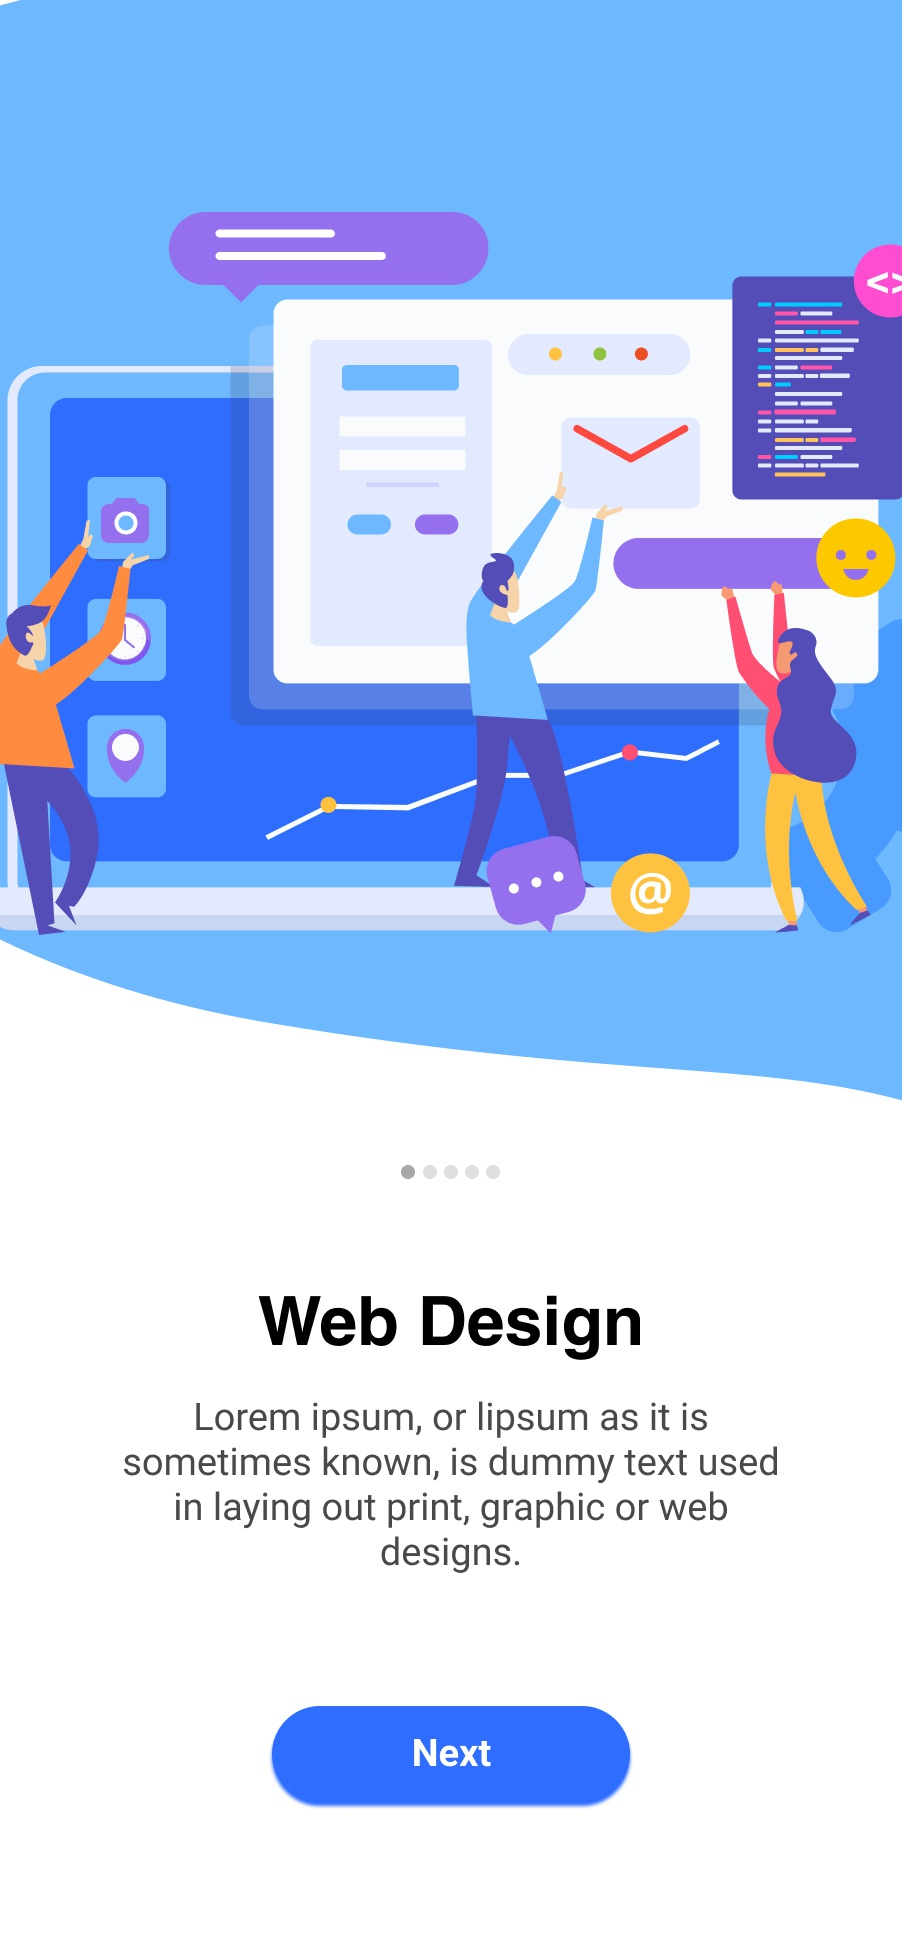Image: (1, 210, 902, 937)
PageIndicator: (400, 1165, 502, 1181)
Text: (125, 1400, 779, 1574), (259, 1295, 642, 1361)
TextButton: (272, 1705, 632, 1809)
